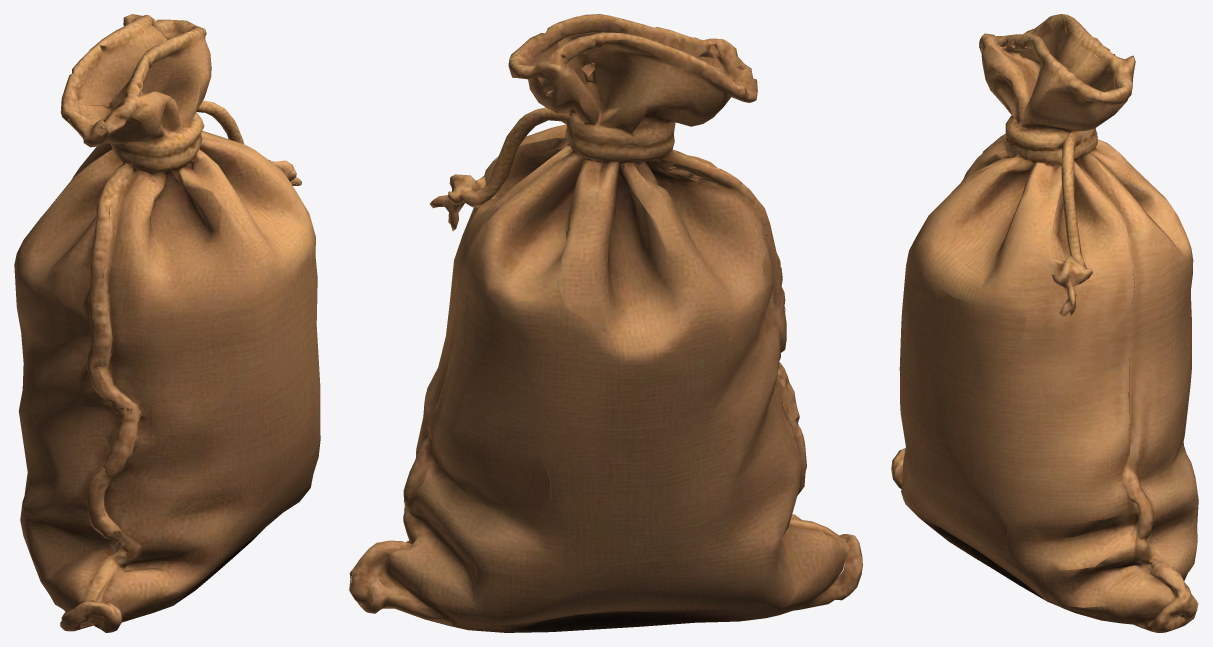
File: saco.glb
The picture shows the model from 3 angles, left to right: view 1: azimuth 30°, elevation 25°; view 2: azimuth 150°, elevation 25°; view 3: azimuth 270°, elevation 25°; orthographic projection. The views are drawn at different scales.
Visible parts, largest first — view 1: geometry_0; view 2: geometry_0; view 3: geometry_0.
Part boxes in pixels (x1,y1,x2,y2): geometry_0: (14, 14, 320, 632); geometry_0: (349, 14, 862, 632); geometry_0: (891, 14, 1198, 632).
Size of the model in its own units: 0.5 by 0.75 by 0.4.
1 material, 1 textured.
